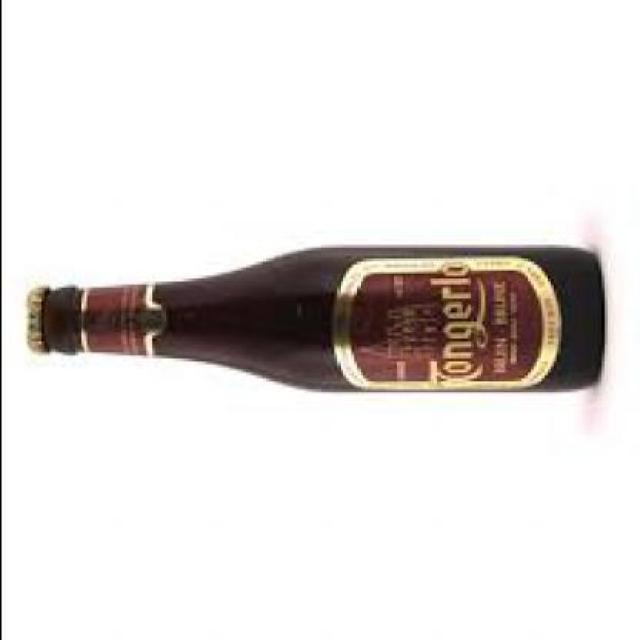GLASS: (40, 245, 600, 392)
METAL: (23, 291, 43, 358)
